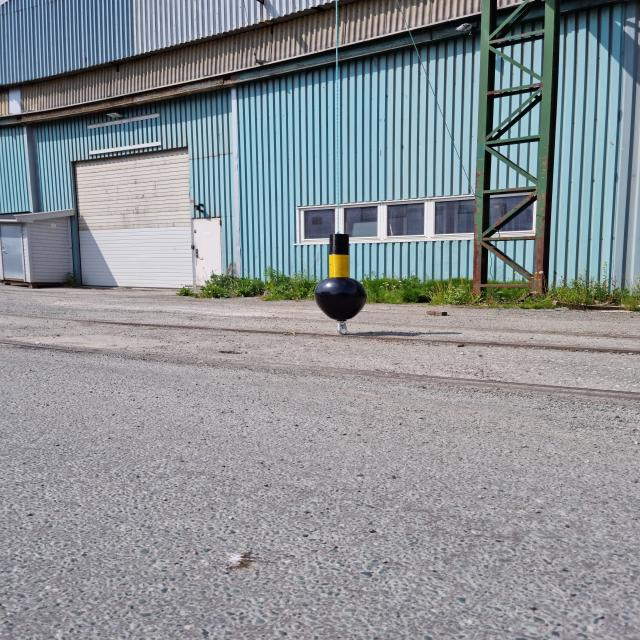east: (314, 234, 368, 322)
